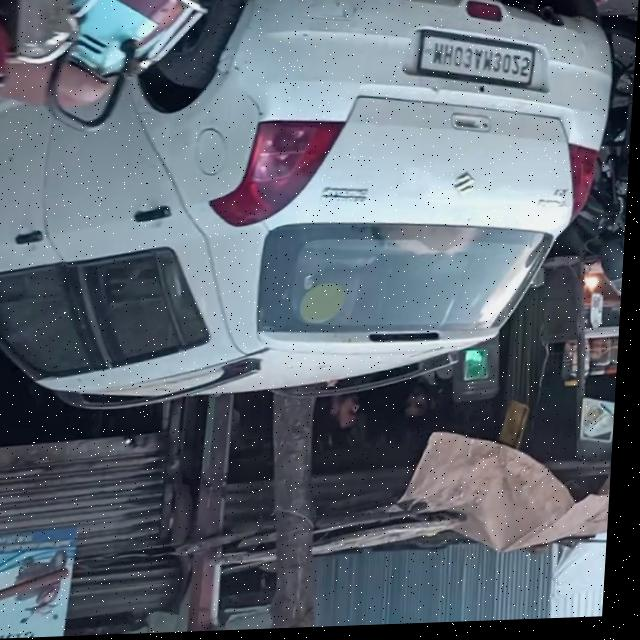plate: (415, 31, 539, 96)
